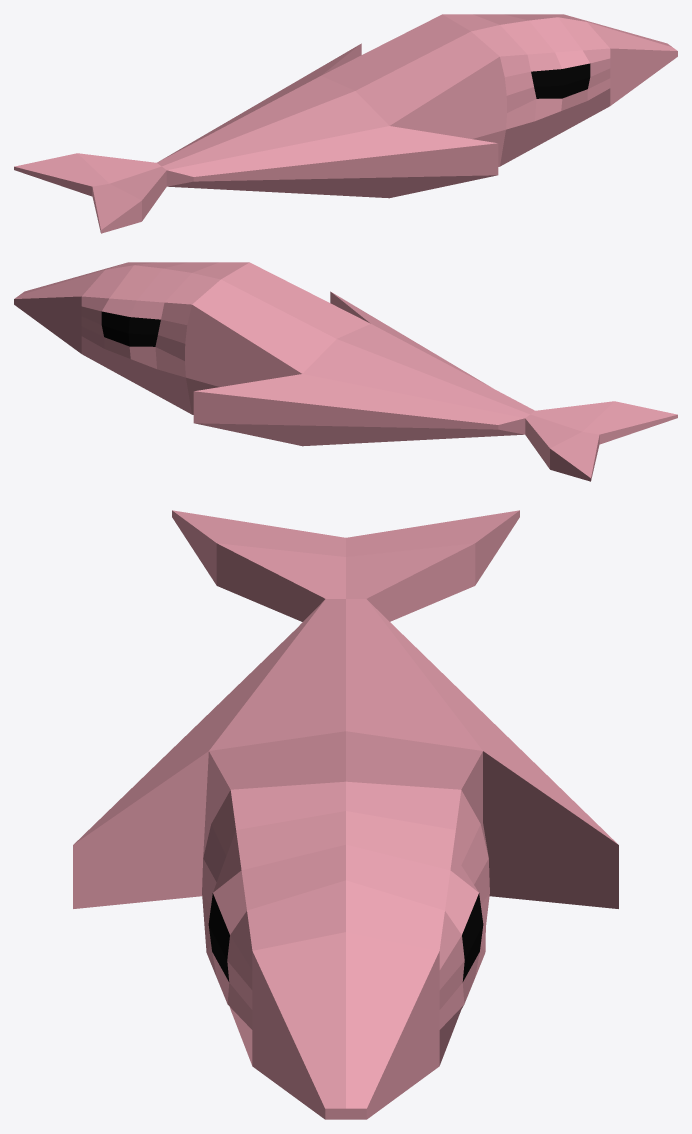
File: daggerFish.fbx
3 views of the same model, one above another, from view 1: azimuth 30°, elevation 25°; view 2: azimuth 150°, elevation 25°; view 3: azimuth 270°, elevation 25° (orthographic). The views are drawn at different scales.
Visible parts, largest first — view 1: Cube; view 2: Cube; view 3: Cube.
Boxes of the visible parts, x1,y1,x2,y2 form: Cube: (14,14,677,233); Cube: (14,262,677,481); Cube: (73,510,618,1119).
Bounding box in the file's own units: 2185 × 447 × 840.
